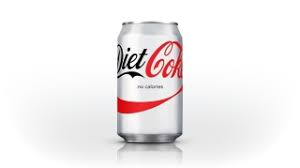coke-can-diet: (114, 17, 184, 145)
